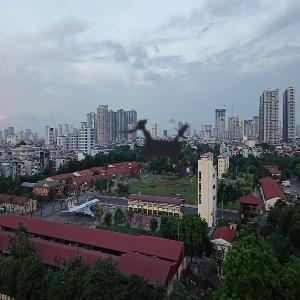drone: (72, 61, 246, 235)
